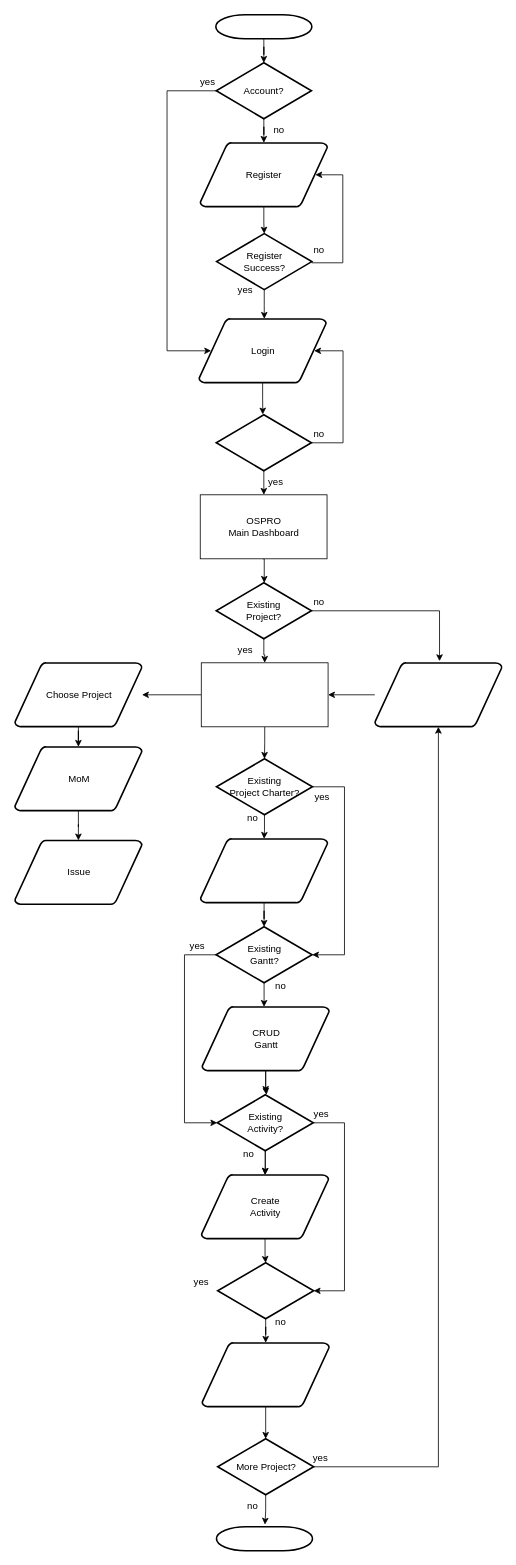
The diagram is 516 pixels wide and 1565 high, and some of its shapes have lost their labels. The centre of each missing label's shape, as x and y in pixels:
"CRUD Daily Report" goes at (265,1374).
"CRUD Project" goes at (438,694).
"CRUD Project Charter" goes at (263,870).
"End" goes at (264,1538).
"Existing Daily Report?" goes at (265,1290).
"Login Success?" goes at (263,442).
"Project Dashboard" goes at (264,694).
"start" goes at (263,26).
